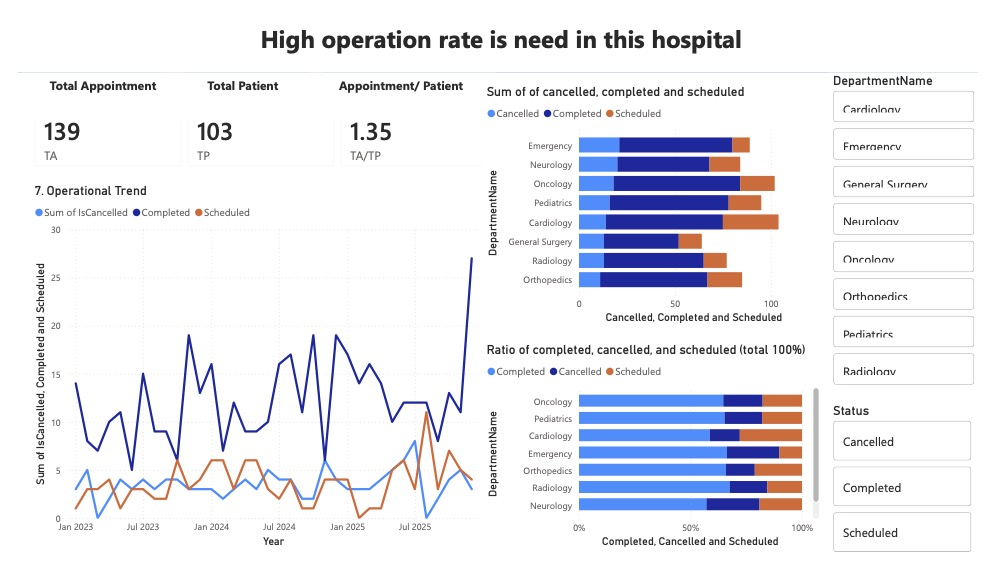

The dashboard page shown, as its layout file describes it:
{"tool":"powerbi","page":{"name":"Operation","canvas":[1280,720],"ordinal":1},"visuals":[{"type":"cardVisual","fields":{"Data":["Sum(doctor_kpi_last6m.TotalAppointments_Last6Months)","Sum(diagnosis_kpi_last6m.TotalPatients_Last6Months)","Sum(diagnosis_kpi_last6m.AvgAppointmentsPerPatient_Last6Months)"]},"box":[5,103.7,639.4,112.9],"z":0,"group":"g2"},{"type":"textbox","box":[5,73.3,216.9,63.8],"z":1000,"group":"g1"},{"type":"textbox","box":[191.5,73.3,216.9,63.8],"z":2000,"group":"g1"},{"type":"textbox","box":[384.8,73.3,252.4,64.3],"z":3000,"group":"g1"},{"type":"shape","box":[0,0,1280,73.3],"z":6000},{"type":"lineChart","title":"7. Operational Trend","fields":{"Category":["DBfinal_fact_table0415.YearMonth.Variation.Date Hierarchy.Year","DBfinal_fact_table0415.YearMonth.Variation.Date Hierarchy.Month"],"Y":["Sum(DBfinal_fact_table0415.IsCancelled)","Sum(DBfinal_fact_table0415.IsCompleted)","Sum(DBfinal_fact_table0415.IsScheduled)"]},"box":[16.7,220,615,490],"z":7000},{"type":"advancedSlicerVisual","fields":{"Values":["DBfinal_fact_table0415.DepartmentName"]},"box":[1081.7,73.3,198.6,423.7],"z":8000,"group":"g3"},{"type":"advancedSlicerVisual","fields":{"Values":["DBfinal_fact_table0415.Status"]},"box":[1081.7,513.7,194.3,207],"z":9000,"group":"g3"},{"type":"group","id":"g1","title":"Group 1","box":[5,73.3,632.2,64.3],"z":9001,"group":"g2"},{"type":"group","id":"g2","title":"Group 2","box":[5,73.3,640,141.7],"z":9002},{"type":"group","id":"g3","title":"Group 3","box":[1081.7,73.3,198.3,646.7],"z":9003},{"type":"hundredPercentStackedBarChart","title":"Ratio of completed, cancelled, and scheduled (total 100%)","fields":{"Category":["DBfinal_fact_table0415.DepartmentName"],"Y":["Sum(DBfinal_fact_table0415.IsCompleted)","Sum(DBfinal_fact_table0415.IsCancelled)","Sum(DBfinal_fact_table0415.IsScheduled)"]},"box":[620,431.7,453.3,278.3],"z":9004},{"type":"barChart","title":"Sum of of cancelled, completed and scheduled","fields":{"Category":["DBfinal_fact_table0415.DepartmentName"],"Y":["Sum(DBfinal_fact_table0415.IsCancelled)","Sum(DBfinal_fact_table0415.IsCompleted)","Sum(DBfinal_fact_table0415.IsScheduled)"]},"box":[620,88.3,450,323.3],"z":9005},{"type":"textbox","box":[0,0,1280,73.3],"z":9006}]}

Visuals, with their boxes in screenshot pixels (x1, y1, x2, y2), scaled from the page's 1280x720 canvas onto the 996x576 screenshot:
cardVisual - Sum(doctor_kpi_last6m.TotalAppointments_Last6Months) x Sum(diagnosis_kpi_last6m.TotalPatients_Last6Months): bbox=(4, 83, 501, 173)
textbox: bbox=(4, 59, 173, 110)
textbox: bbox=(149, 59, 318, 110)
textbox: bbox=(299, 59, 496, 110)
shape: bbox=(0, 0, 995, 59)
"7. Operational Trend" lineChart: bbox=(13, 176, 492, 568)
advancedSlicerVisual - DBfinal_fact_table0415.DepartmentName: bbox=(842, 59, 995, 398)
advancedSlicerVisual - DBfinal_fact_table0415.Status: bbox=(842, 411, 993, 575)
"Group 1" group: bbox=(4, 59, 496, 110)
"Group 2" group: bbox=(4, 59, 502, 172)
"Group 3" group: bbox=(842, 59, 995, 575)
"Ratio of completed, cancelled, and scheduled (total 100%)" hundredPercentStackedBarChart: bbox=(482, 345, 835, 568)
"Sum of of cancelled, completed and scheduled" barChart: bbox=(482, 71, 833, 329)
textbox: bbox=(0, 0, 995, 59)
